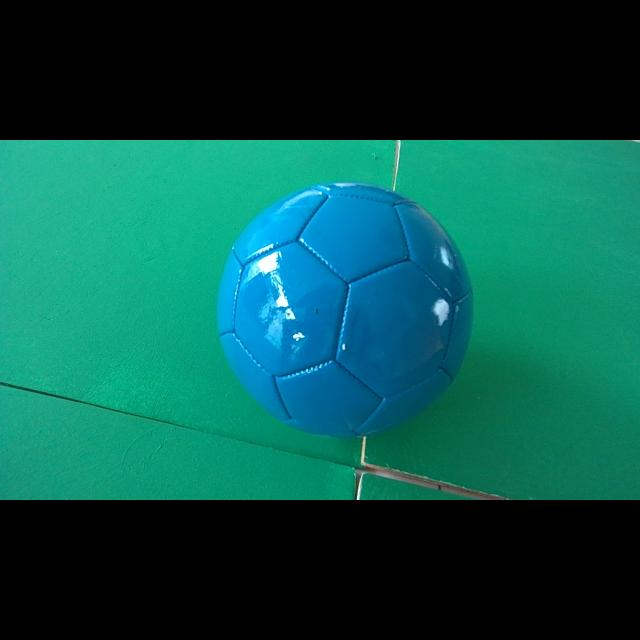B: (218, 182, 472, 438)
